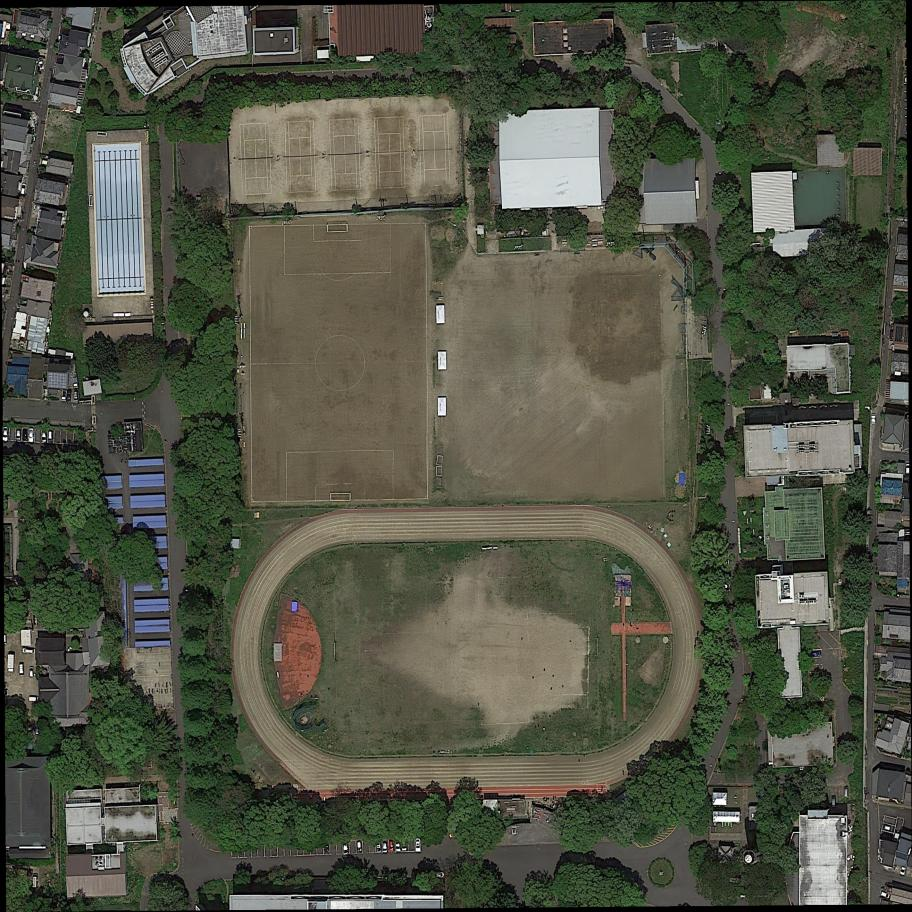large-vehicle: (7, 654, 14, 674)
small-vehicle: (28, 427, 35, 443), (899, 864, 907, 876), (809, 651, 822, 658), (880, 891, 891, 899), (889, 327, 895, 341), (15, 429, 22, 441), (47, 431, 54, 443), (389, 840, 395, 854), (32, 874, 38, 888), (72, 377, 79, 389), (415, 838, 421, 852), (376, 841, 382, 854), (22, 648, 35, 654), (41, 430, 47, 443), (432, 872, 445, 878), (323, 843, 330, 854), (343, 842, 349, 854), (357, 841, 363, 853), (20, 183, 26, 195), (395, 841, 401, 853), (19, 663, 24, 676), (23, 429, 28, 442), (67, 390, 72, 403), (29, 666, 34, 678), (383, 842, 388, 854), (61, 391, 67, 401), (831, 796, 836, 808), (402, 841, 407, 851), (844, 786, 848, 798), (28, 697, 39, 701), (74, 391, 78, 401)
